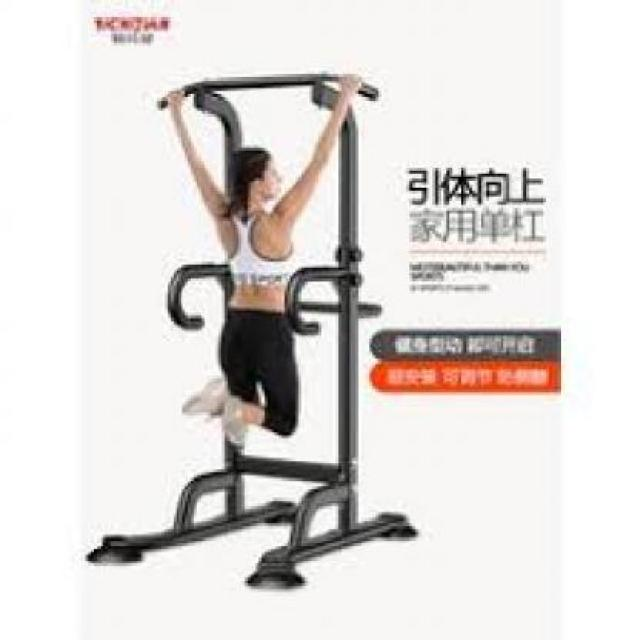chinning dipping: (83, 71, 382, 591)
